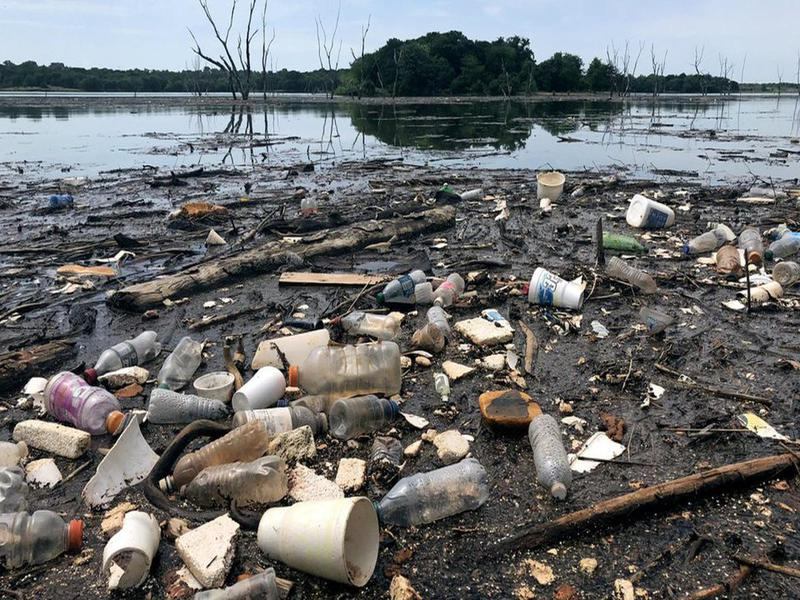bottle: (372, 453, 492, 527), (286, 340, 407, 398), (176, 454, 294, 510), (33, 370, 127, 436), (1, 507, 87, 574), (521, 414, 576, 504)
cup: (254, 491, 381, 589), (523, 268, 589, 312), (229, 365, 285, 413)
